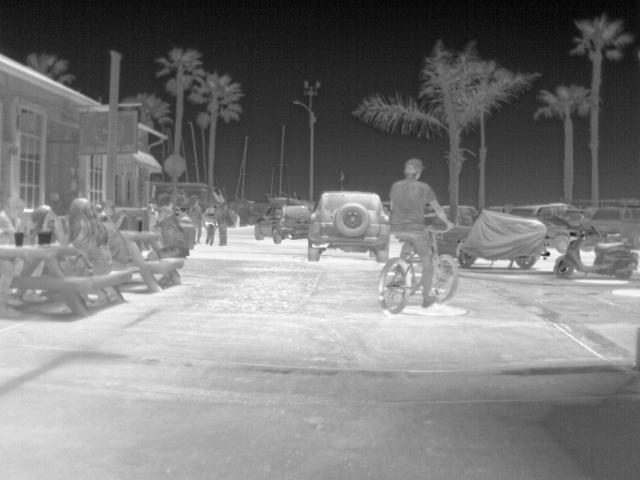car: (306, 190, 387, 260), (255, 205, 310, 243)
person: (383, 160, 455, 310), (57, 196, 116, 276), (146, 198, 191, 262), (26, 204, 58, 236), (1, 198, 28, 232), (212, 194, 229, 245), (189, 197, 205, 244), (204, 221, 219, 246)
